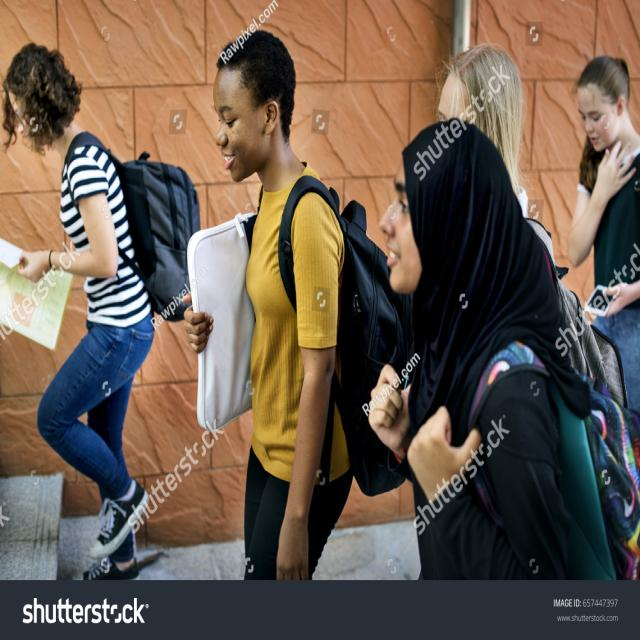body: (179, 26, 422, 586), (366, 115, 640, 581), (2, 37, 202, 584), (434, 42, 630, 414), (564, 52, 640, 444)
